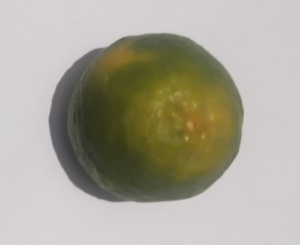BAD: (63, 30, 247, 205)
